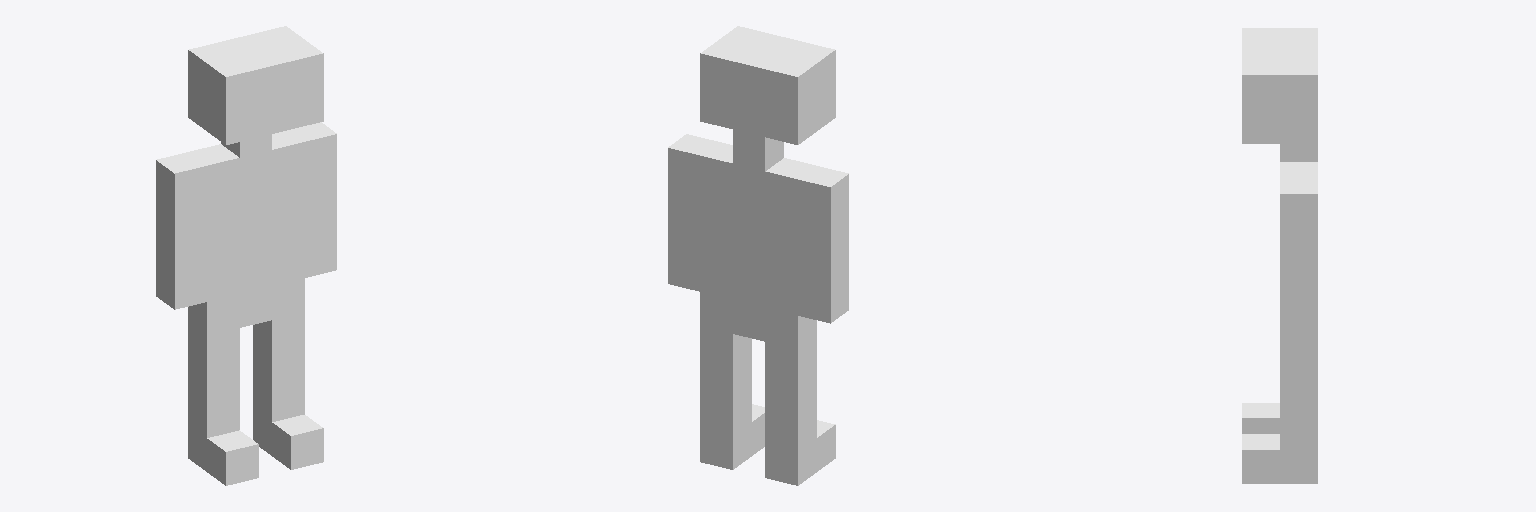
File: man.obj
3 views of the same model, side by side, from view 1: azimuth 30°, elevation 25°; view 2: azimuth 150°, elevation 25°; view 3: azimuth 270°, elevation 25° (orthographic).
Size of the model in its own units: 5 by 12 by 2.